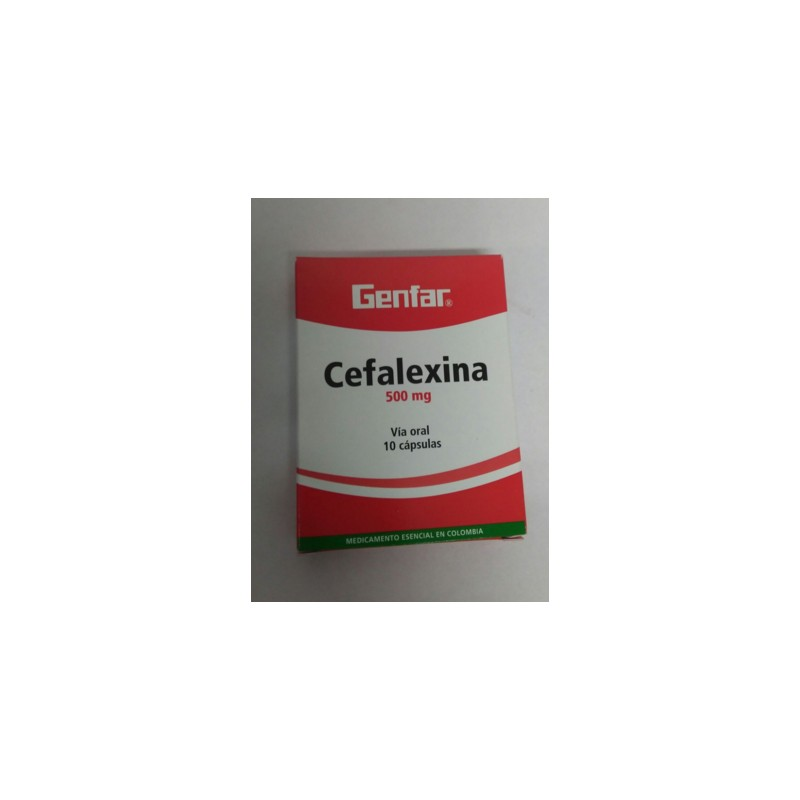Genfar: (297, 253, 526, 550)
